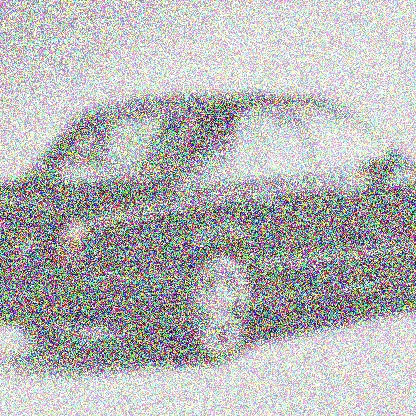Vehicle: (3, 98, 414, 364)
